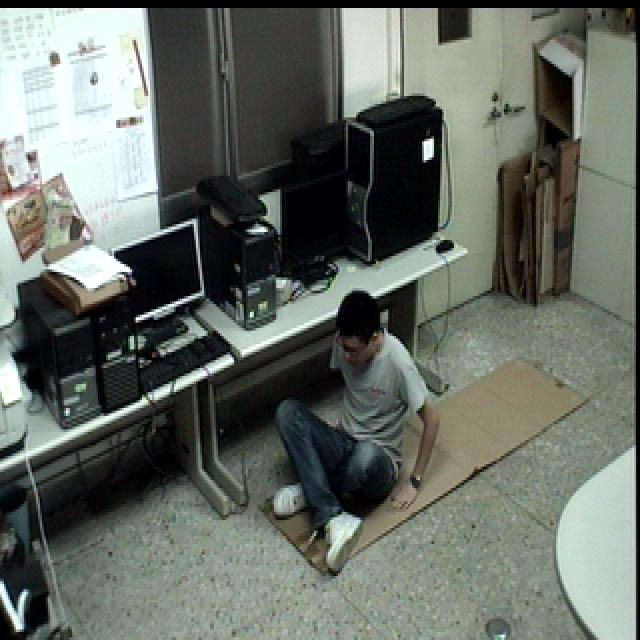sit: (272, 285, 444, 574)
